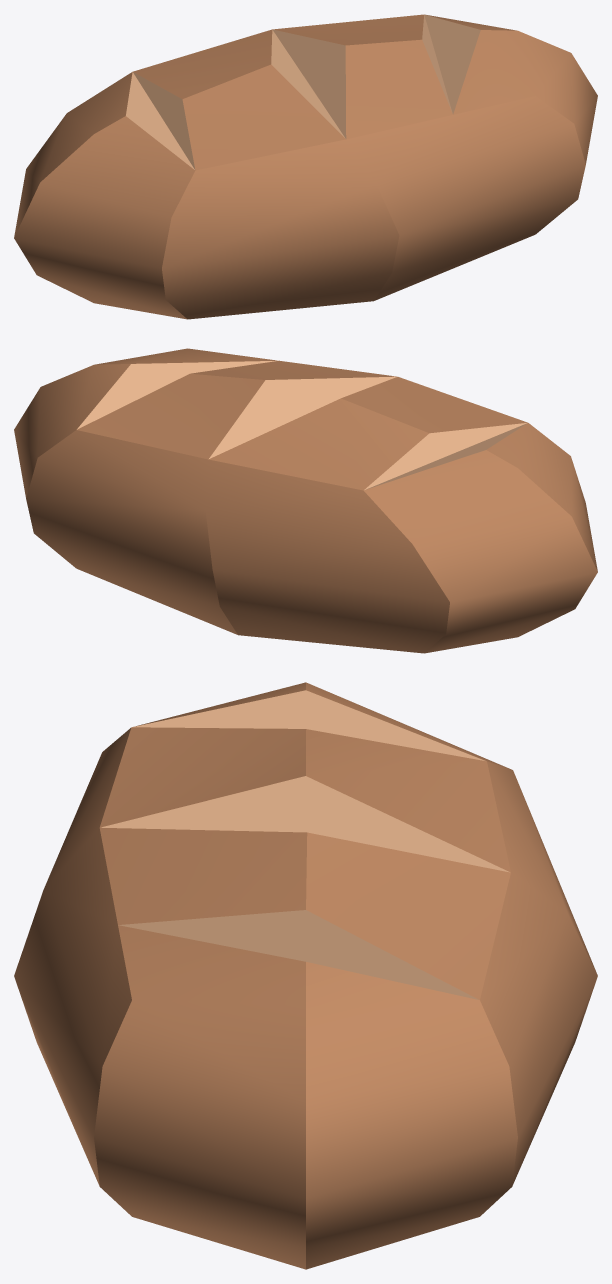
Rendered from 3d-feliu-axel-panet.glb.
3 renders of one model, top to bottom at view 1: azimuth 30°, elevation 25°; view 2: azimuth 150°, elevation 25°; view 3: azimuth 270°, elevation 25°, orthographic. The views are drawn at different scales.
Parts seen in each view (by area): view 1: Bread; view 2: Bread; view 3: Bread.
Part boxes in pixels (x1,y1,x2,y2): Bread: (14,14,597,319); Bread: (14,348,597,653); Bread: (14,682,597,1269).
Size of the model in its own units: 1.1 by 0.4108 by 0.6108.
Materials: 1 (1 with a texture image).
